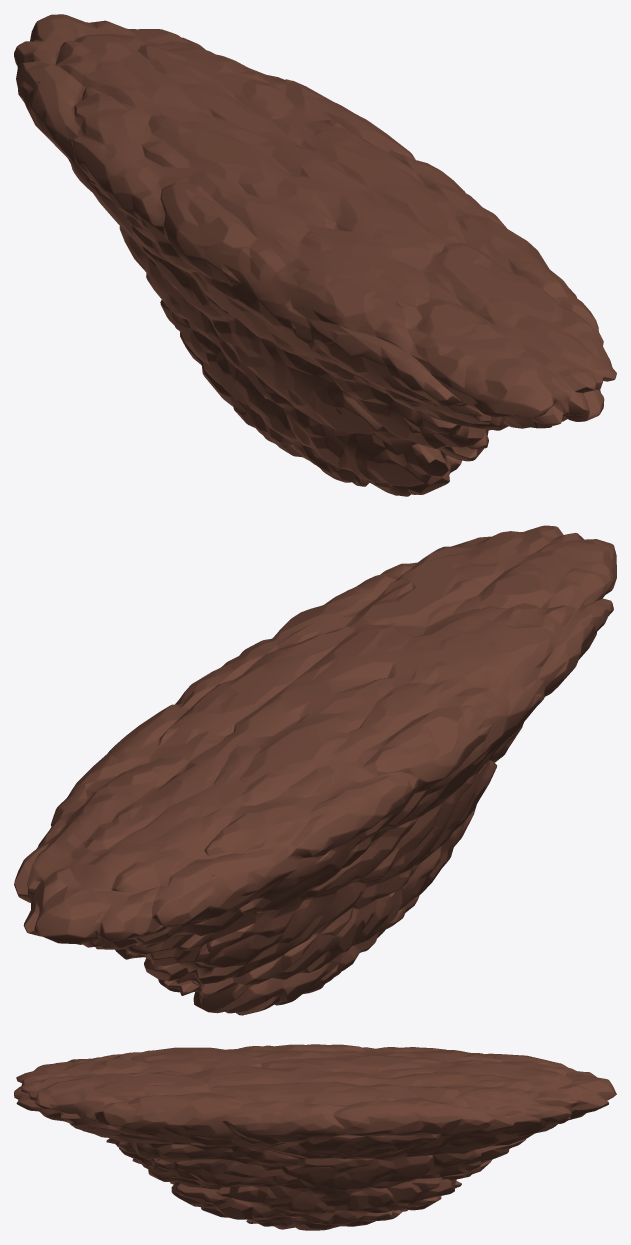
File: Rock3.fbx
3 renders of one model, top to bottom at view 1: azimuth 30°, elevation 25°; view 2: azimuth 150°, elevation 25°; view 3: azimuth 270°, elevation 25°, orthographic. The views are drawn at different scales.
Visible parts, largest first — view 1: Cube; view 2: Cube; view 3: Cube.
Boxes of the visible parts, <box> form: Cube: <box>14,14,616,496</box>; Cube: <box>14,525,616,1015</box>; Cube: <box>14,1044,616,1230</box>.
Bounding box in the file's own units: 1888 × 1877 × 6485.
